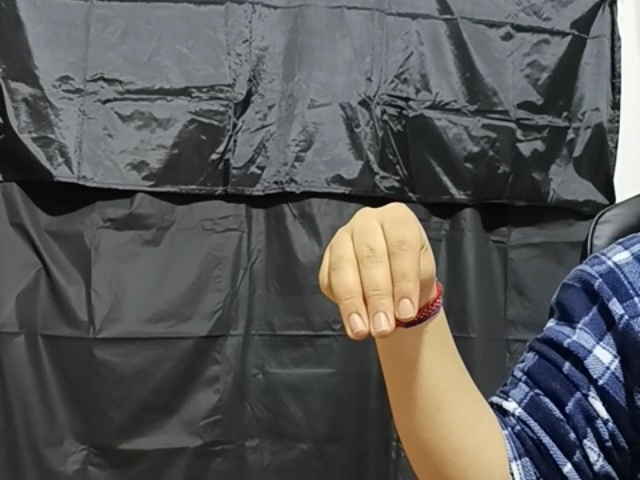M: (315, 201, 440, 348)
